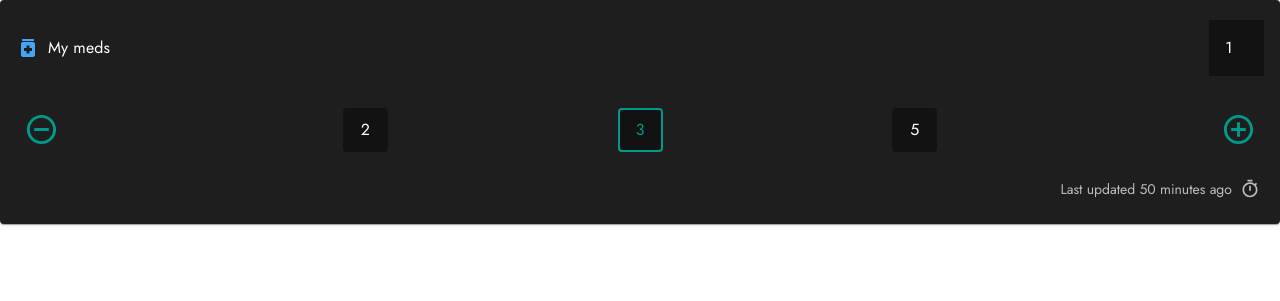
Scenario: <MedicationLogCard /> › does not allow the amount to go below 0
The image size is (1280, 301).
Expected: the number field holds "1", x1=1209 y1=20 x2=1264 y2=76
Click the button named "decrement": (42, 130) x1=16 y1=104 x2=67 y2=155
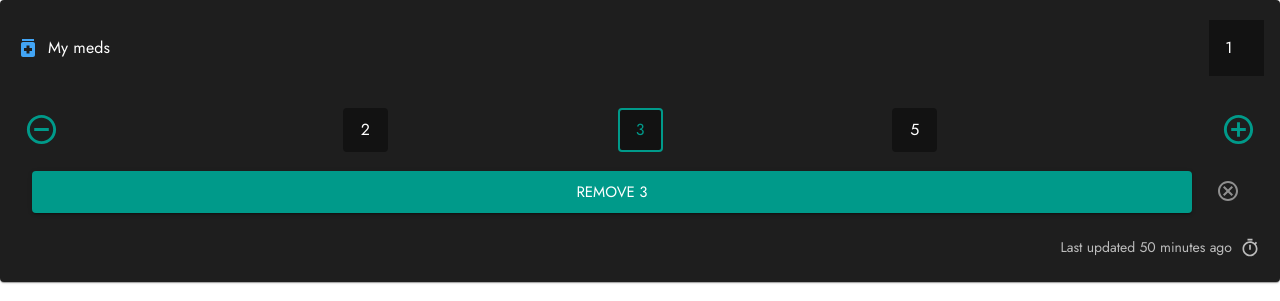
Click the button "Remove 3": (612, 192) x1=32 y1=171 x2=1192 y2=213
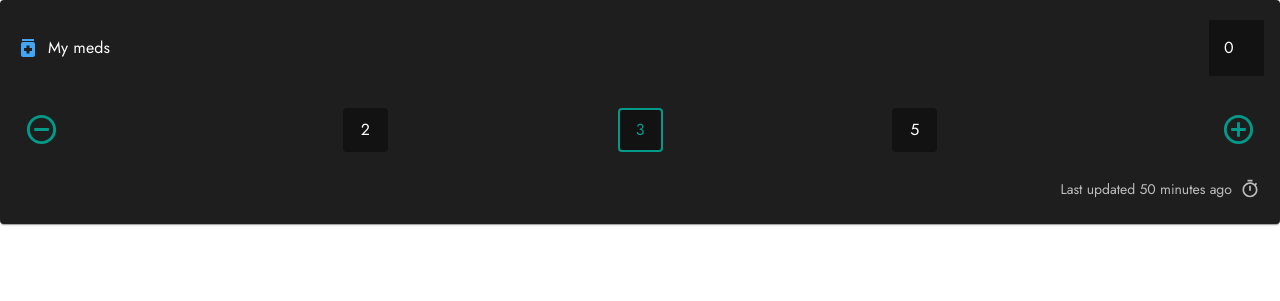
Expected: the number field holds "0", x1=1209 y1=20 x2=1264 y2=76
